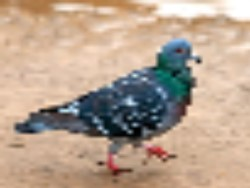pigeon: (13, 37, 204, 177)
